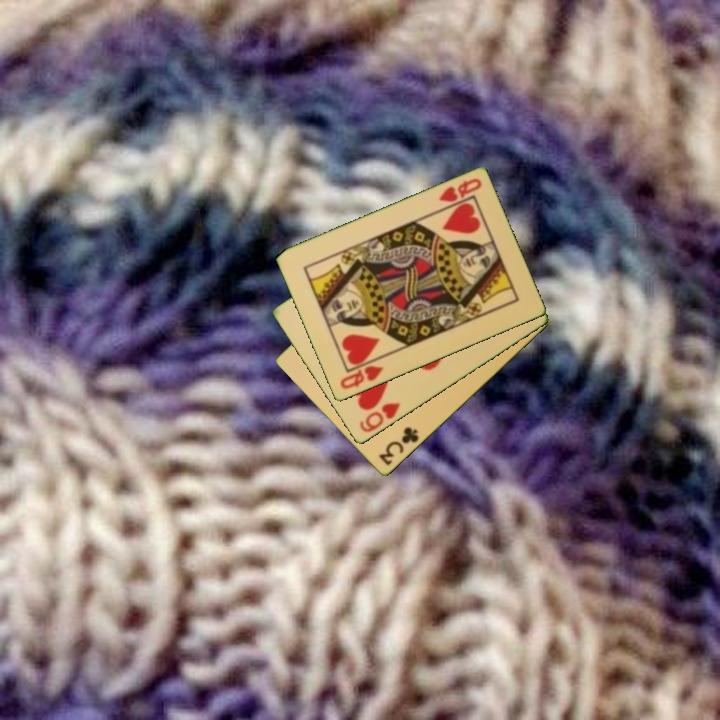3c: (375, 424, 422, 469)
6h: (356, 399, 403, 436)
Qh: (336, 362, 387, 392), (435, 175, 484, 206)
